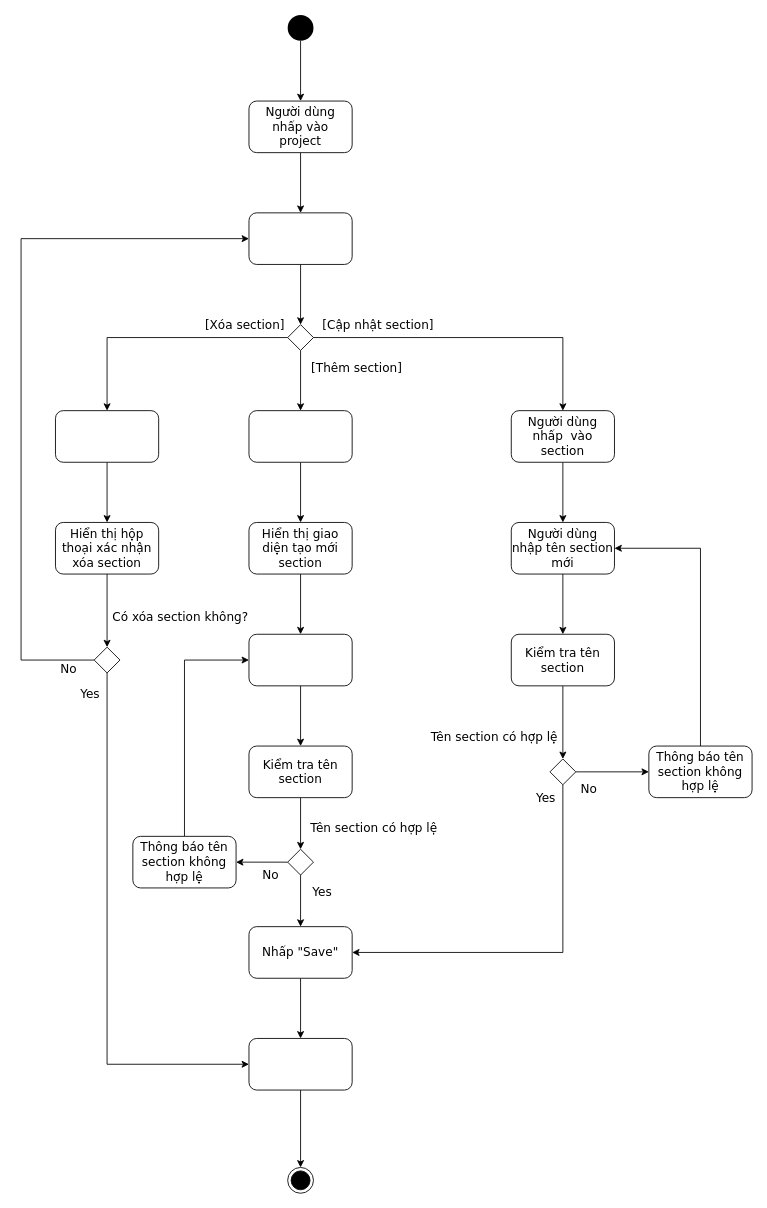
Some shapes in this 767 by 1208 pixel diagram are drawn without their labels. The shapes that lost their labels are listed below. From the top down, each one's centre as x and y in pixels, then its label:
(x=300, y=238): Hiển thị danh sách các section
(x=107, y=436): Người dùng nhấp chọn "X"
(x=300, y=436): Người dùng nhấp chọn "+"
(x=300, y=659): Người dùng nhập tên section
(x=300, y=1064): Cập nhật section
